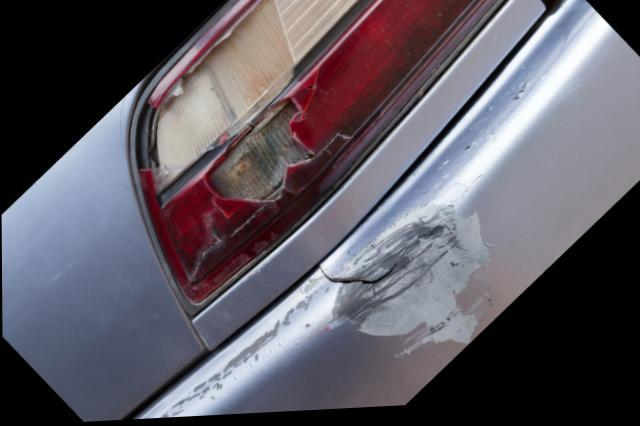crack: (318, 251, 406, 288)
lamp broken: (134, 0, 505, 305)
scratch: (323, 185, 497, 367)
